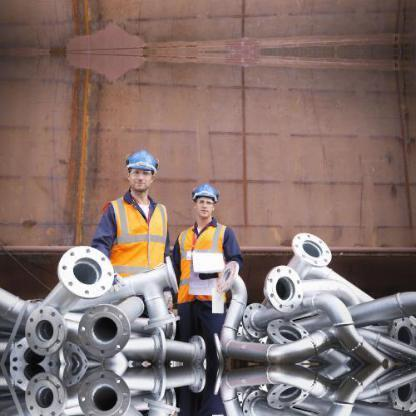helmet: (123, 146, 161, 180), (190, 179, 223, 208)
